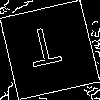T: (24, 25, 66, 77)
